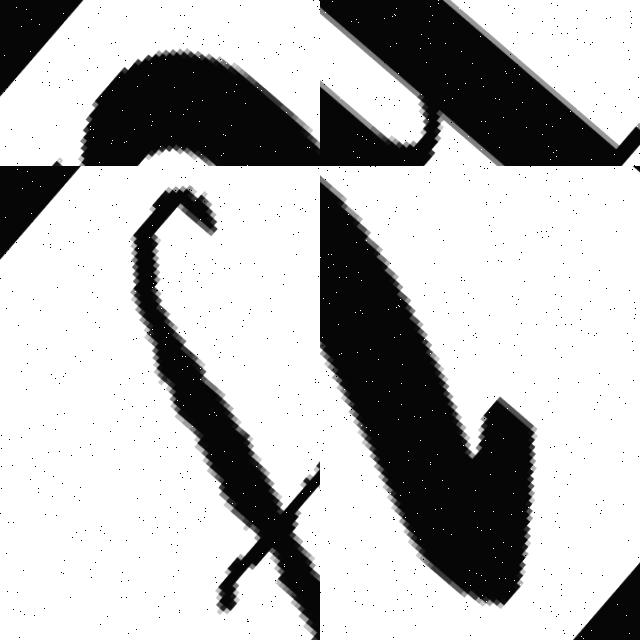1: (320, 166, 640, 631)
B: (320, 0, 640, 166)
D: (0, 0, 320, 166)
F: (132, 188, 320, 640)
